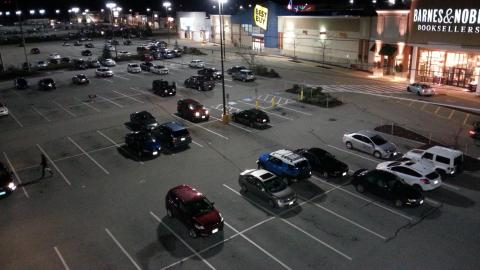car: (155, 185, 230, 242), (352, 169, 425, 212), (233, 170, 300, 216), (376, 155, 439, 196), (253, 145, 314, 187), (341, 123, 401, 161), (292, 145, 351, 181), (400, 145, 468, 176), (154, 120, 193, 157), (121, 131, 165, 161), (229, 105, 274, 130), (174, 99, 214, 123), (124, 111, 161, 131), (146, 78, 181, 97), (182, 75, 216, 92), (197, 67, 225, 82), (230, 70, 258, 84), (94, 65, 112, 83), (185, 58, 209, 70), (38, 77, 55, 93), (71, 72, 89, 86), (224, 65, 250, 74), (151, 63, 167, 75), (125, 63, 142, 74), (141, 61, 153, 72)
